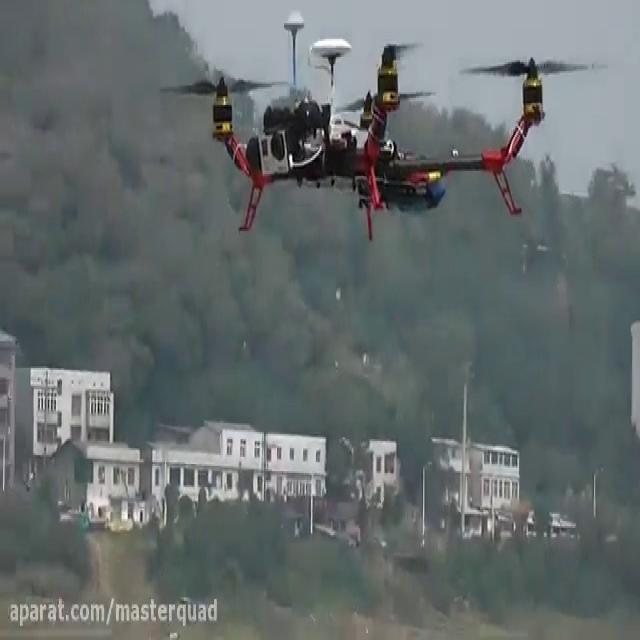drone: (153, 3, 609, 235)
